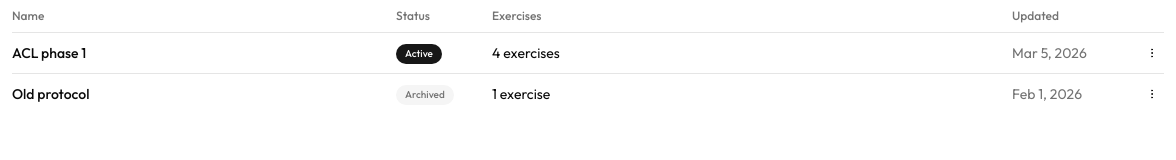
Test: TemplateList › opens a row menu with Duplicate, and no Assign without customers to assign to
Click the button named "Actions for ACL phase 1": coordinates (1152, 53) [1140,41,1164,65]
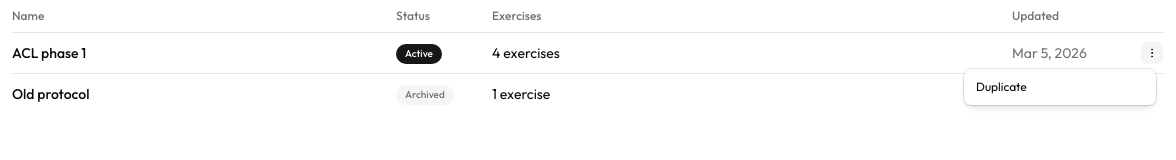
Check: the menu item "Duplicate" is shown, box [976,79,1027,94]
